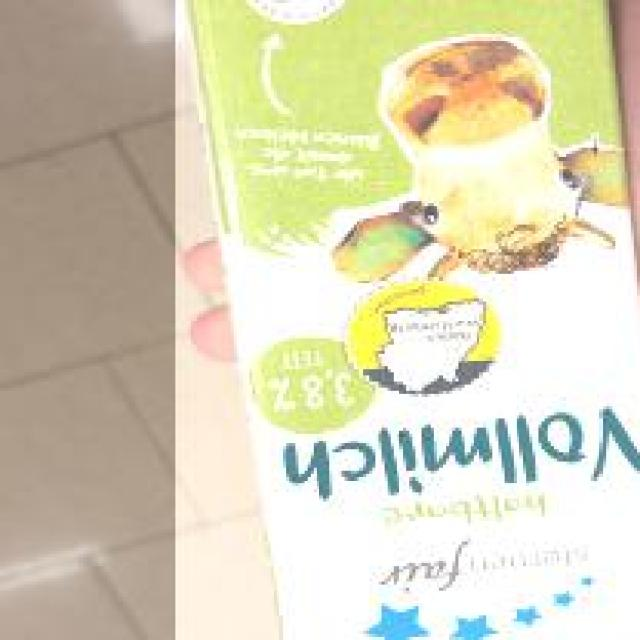milk: (172, 0, 640, 640)
